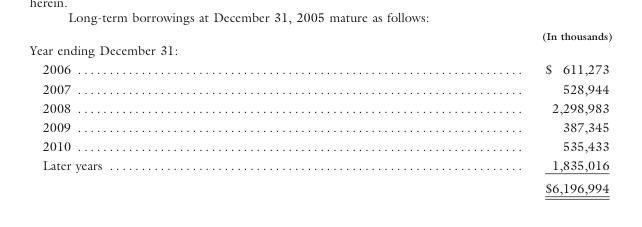table: (28, 28, 611, 195)
table column: (28, 28, 531, 195), (531, 28, 611, 195)
table column header: (28, 28, 611, 41)
table projected row header: (28, 41, 611, 59)
table row: (28, 155, 611, 176), (28, 135, 611, 155), (28, 59, 611, 78), (28, 78, 611, 97), (28, 97, 611, 116), (28, 116, 611, 135), (28, 176, 611, 195), (28, 41, 611, 59), (28, 28, 611, 41)
